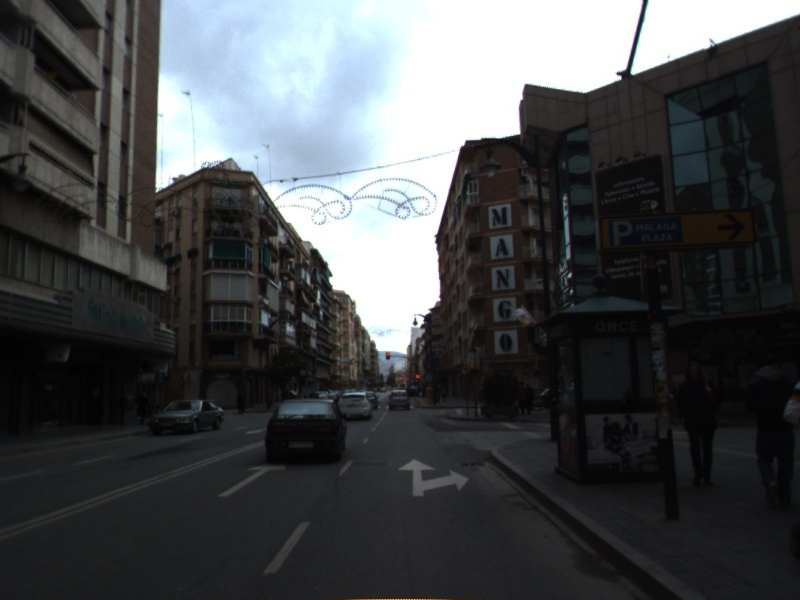STRAIGHT: (215, 459, 288, 499)
STRAIGHT_RIGHT: (396, 457, 471, 499)
